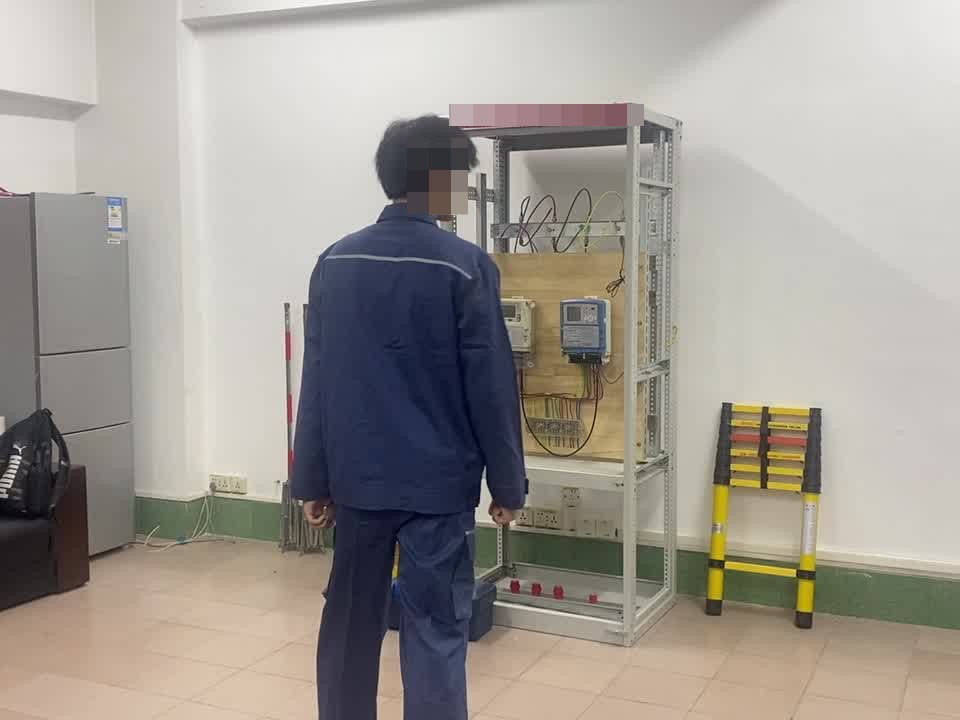downsuit: (312, 524, 482, 720)
hand: (296, 499, 334, 530), (488, 499, 522, 526)
noear: (426, 166, 463, 213)
person: (277, 115, 537, 720)
unhalt: (374, 117, 478, 220)
upsuit: (286, 210, 525, 516)
